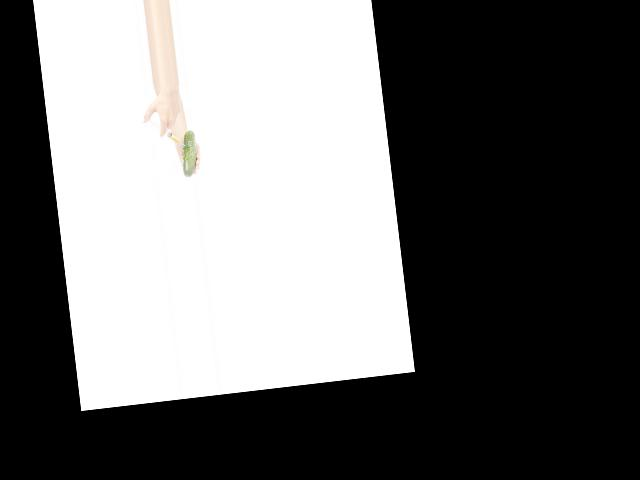cucumber: (179, 130, 199, 178)
